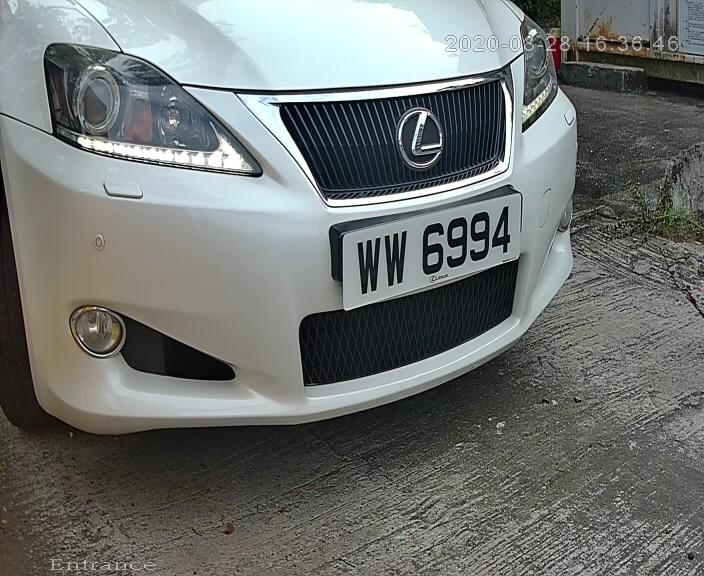License Plate: (322, 169, 535, 325)
